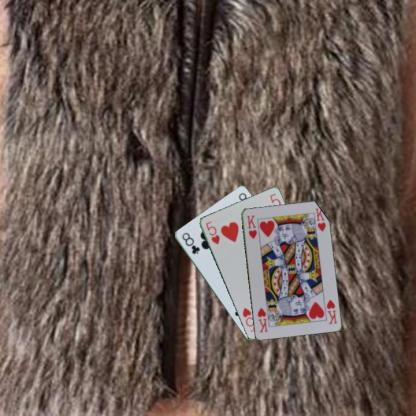5h: (203, 218, 221, 246)
8c: (179, 230, 201, 255)
Kh: (244, 212, 258, 240), (324, 297, 338, 325)
